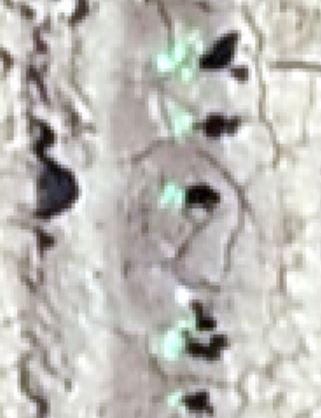cotton: (161, 39, 196, 81), (167, 105, 194, 137), (163, 324, 188, 358), (165, 181, 186, 206), (167, 389, 182, 408)
